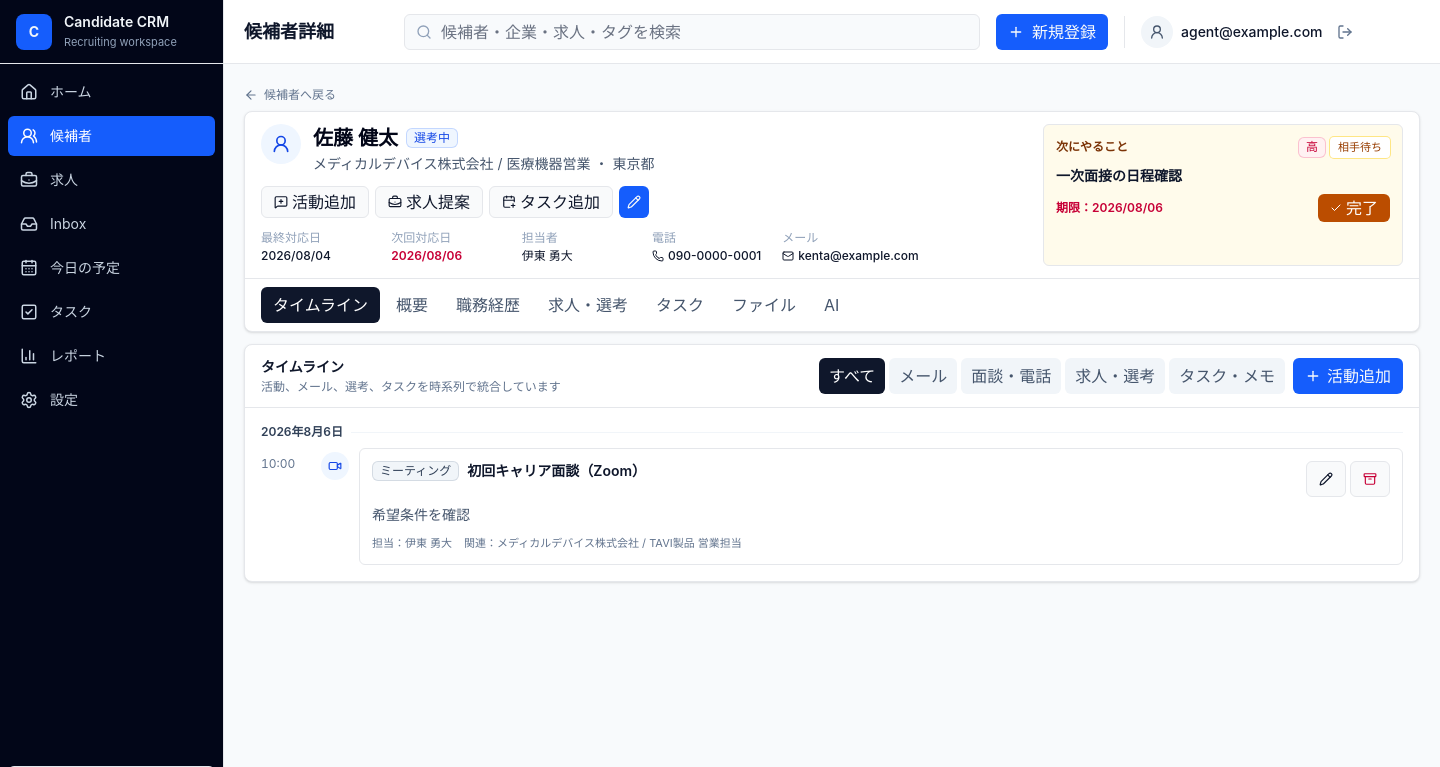
Test: Candidate CRM Phase 2.5 routes › 候補者詳細の各タブを切り替えられる
expect the tab "タイムライン" is shown: met, box [261, 287, 380, 323]
Click the tab "概要" at [412, 305], box [384, 287, 440, 323]
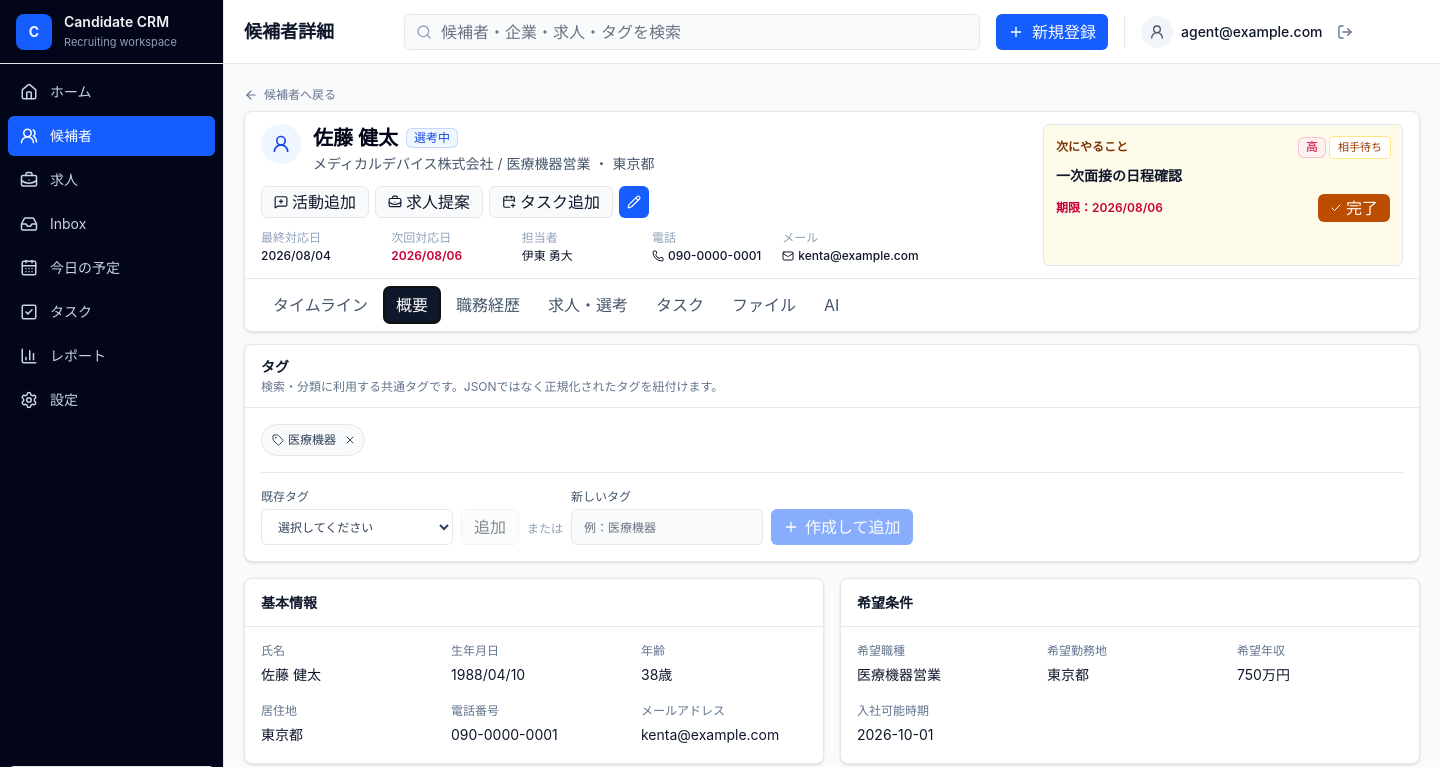
Click the tab "職務経歴" at [488, 305], box [444, 287, 532, 323]
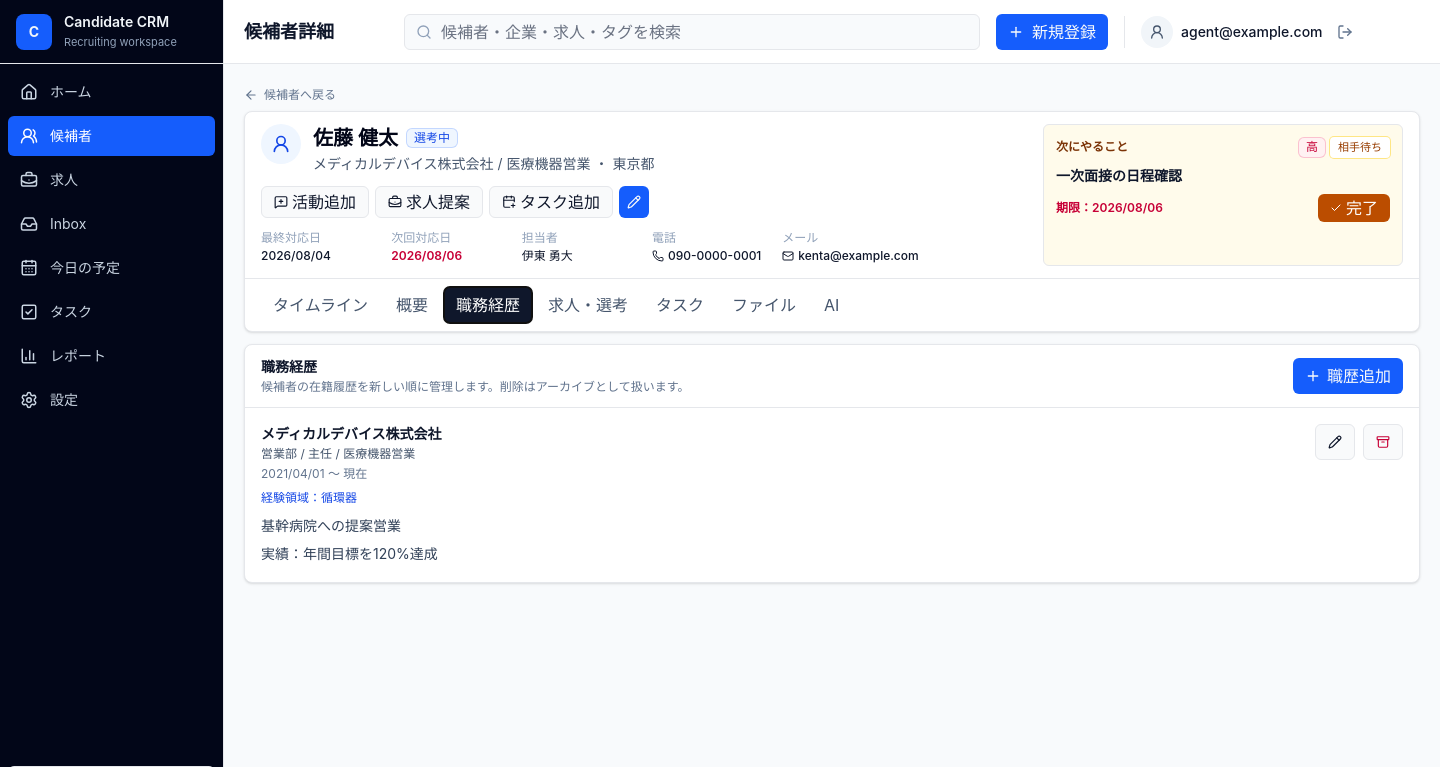
expect the heading "メディカルデバイス株式会社" is shown: met, box [261, 424, 442, 444]
Click the tab "求人・選考" at [588, 305], box [536, 287, 640, 323]
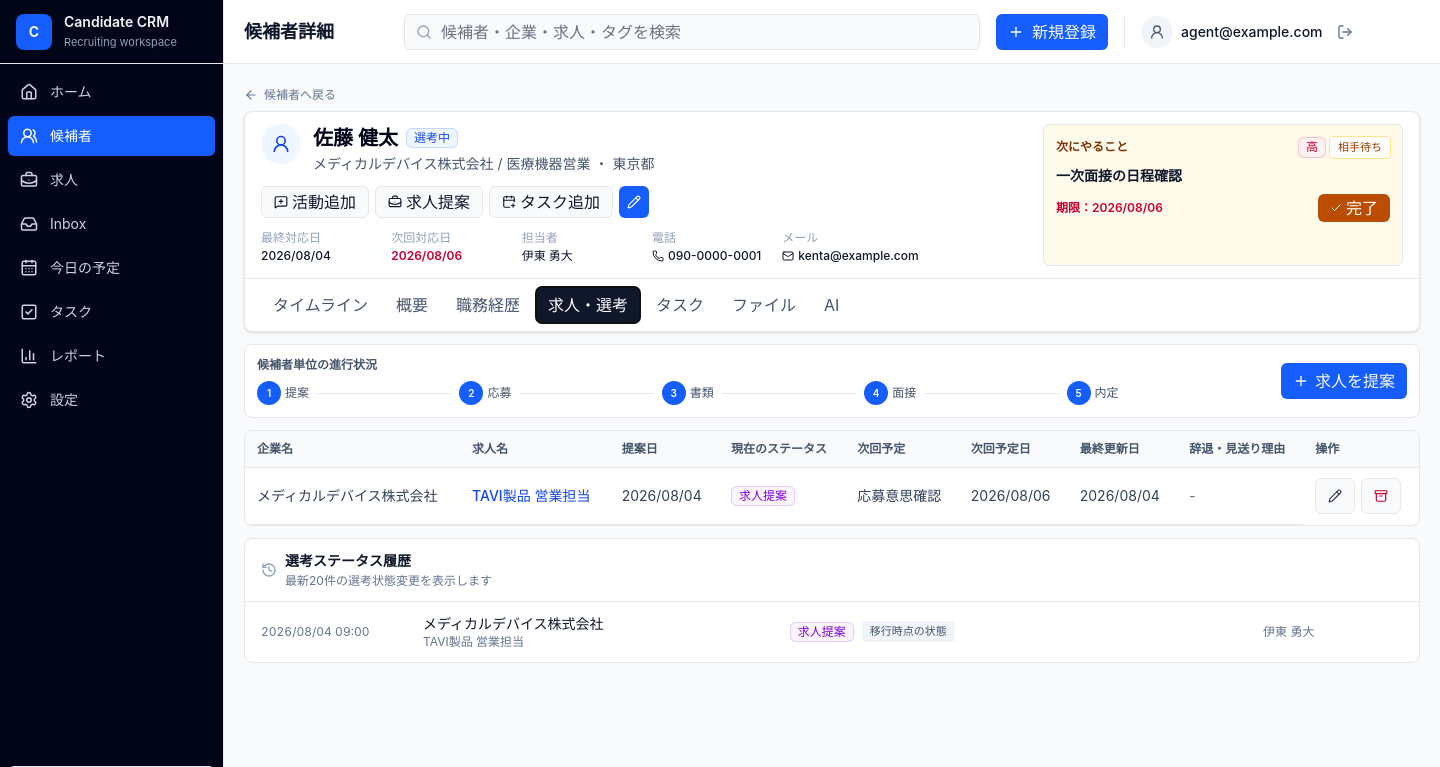
expect the text "候補者単位の進行状況" is shown: met, box [257, 357, 377, 372]
Click the tab "タスク" at [680, 305], box [644, 287, 716, 323]
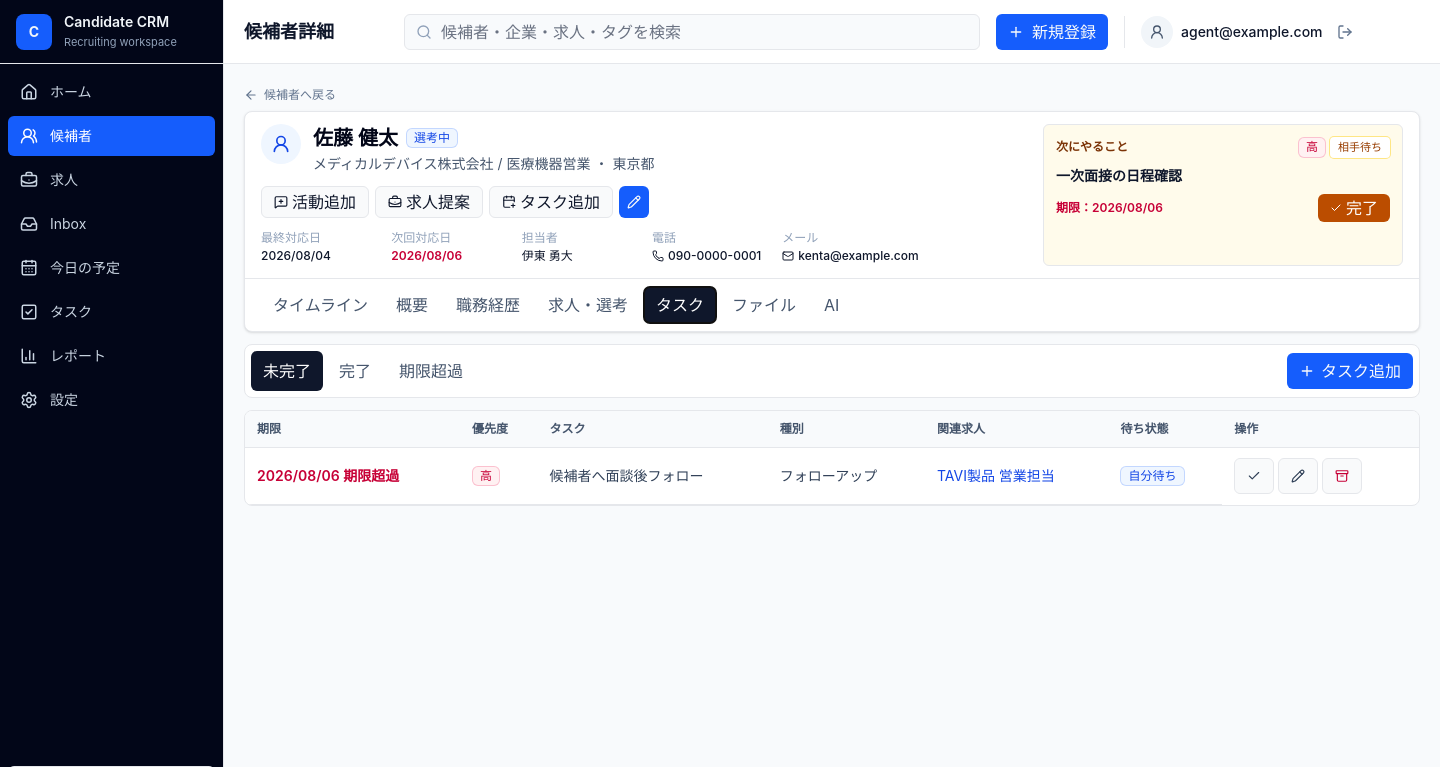
expect the button "未完了" is shown: met, box [251, 351, 323, 391]
Click the tab "ファイル" at [764, 305], box [720, 287, 808, 323]
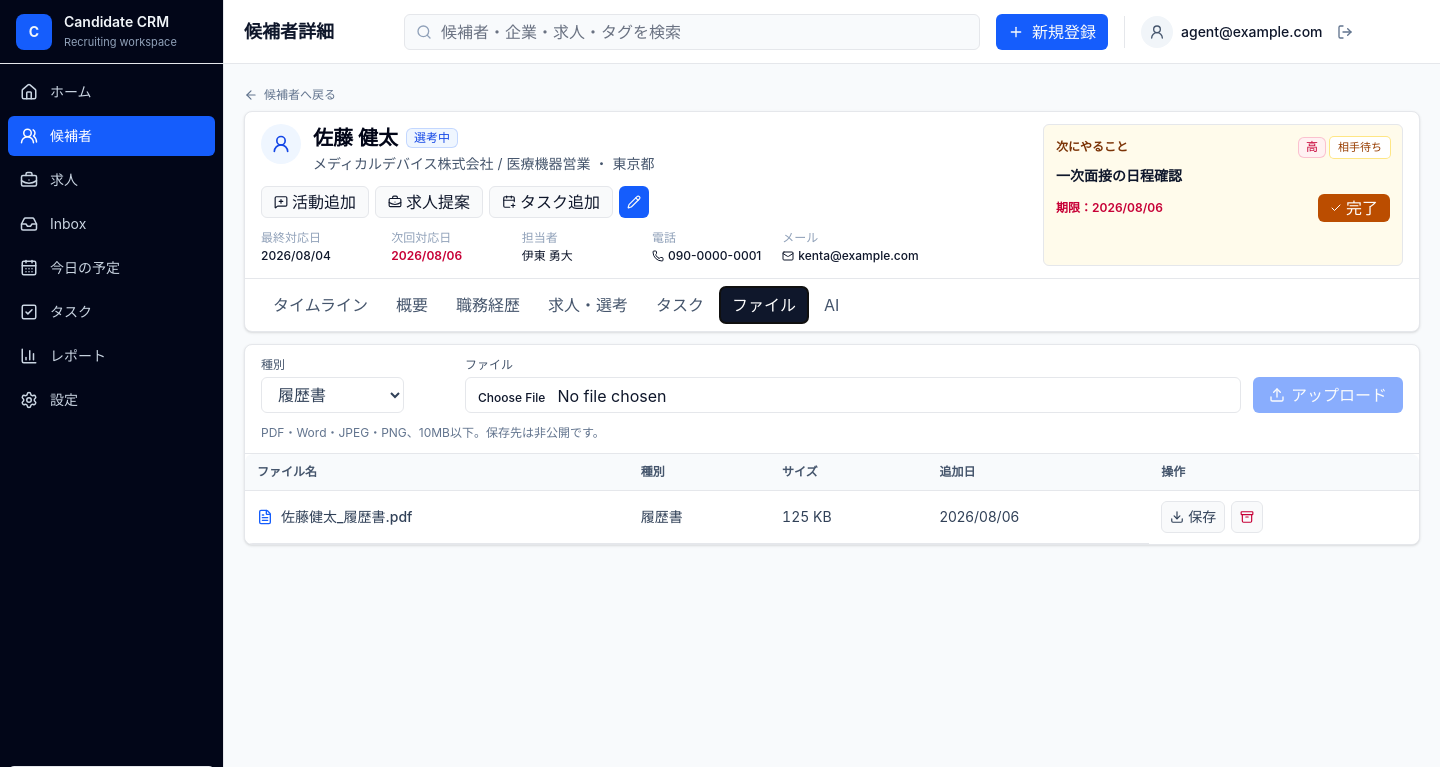
expect the text "佐藤健太_履歴書.pdf" is shown: met, box [281, 507, 412, 527]
Click the tab "AI" at [832, 305], box [812, 287, 851, 323]
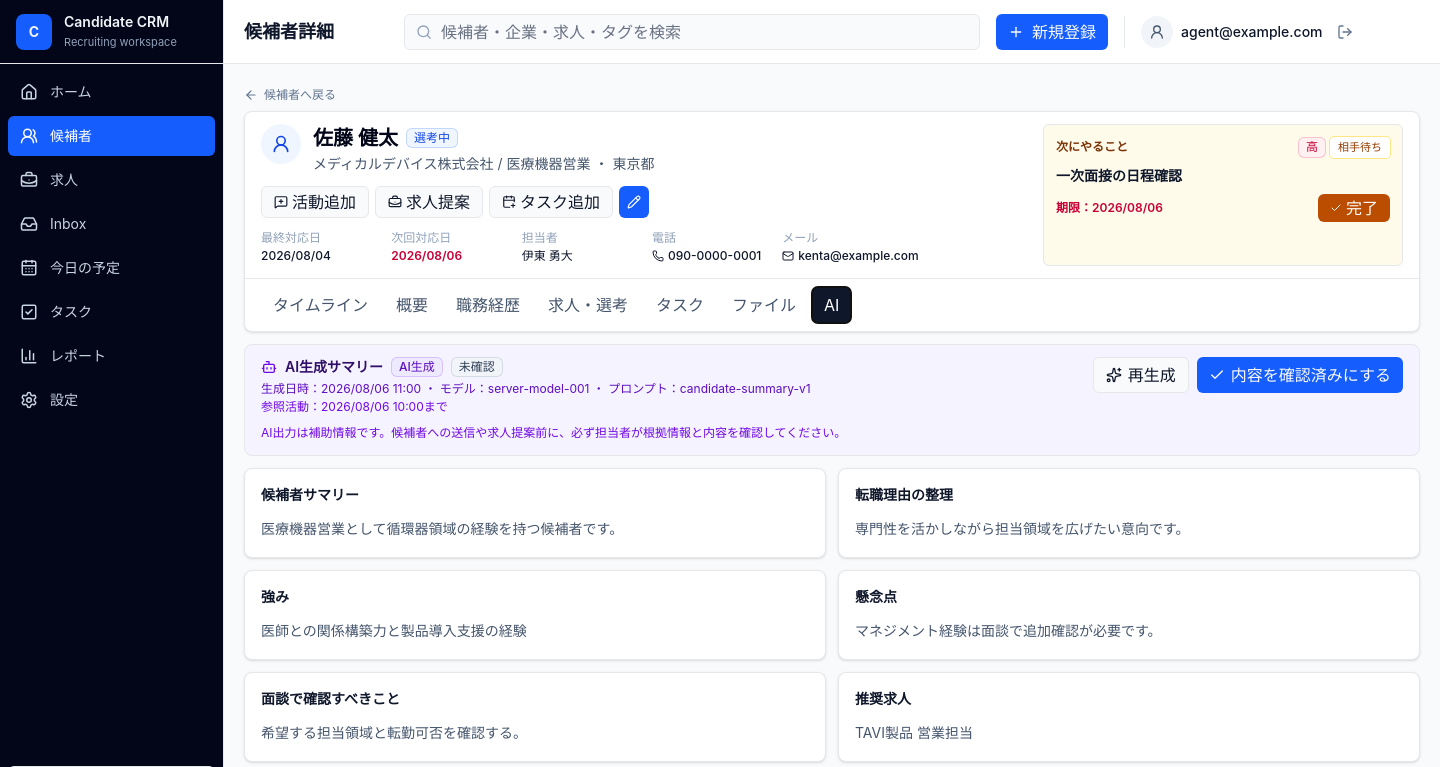
expect the heading "候補者サマリー" is shown: met, box [261, 486, 359, 503]
